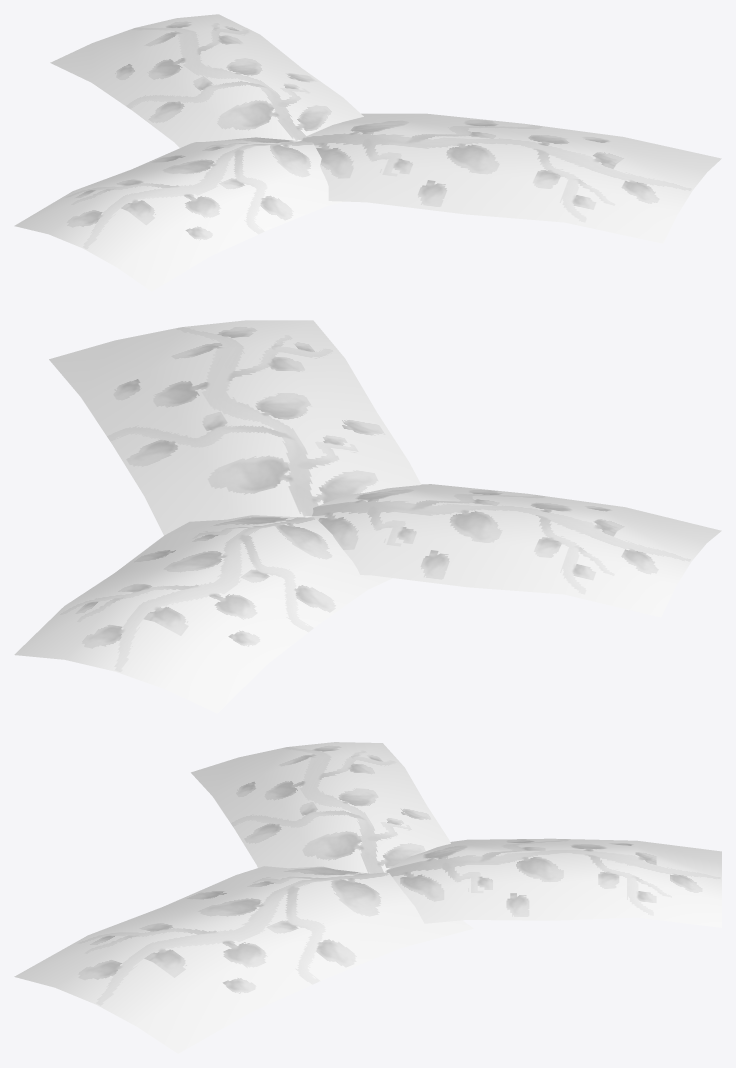
Rendered from Ivy_1.fbx.
3 renders of one model, top to bottom at view 1: azimuth 30°, elevation 25°; view 2: azimuth 150°, elevation 25°; view 3: azimuth 270°, elevation 25°, orthographic. The views are drawn at different scales.
Visible parts, largest first — view 1: Ivy_1; view 2: Ivy_1; view 3: Ivy_1.
Boxes of the visible parts, x1=… form: Ivy_1: x1=14, y1=14, x2=721, y2=291; Ivy_1: x1=14, y1=320, x2=721, y2=713; Ivy_1: x1=14, y1=742, x2=721, y2=1053.
Bounding box in the file's own units: 3.6 × 0.2349 × 3.56.
